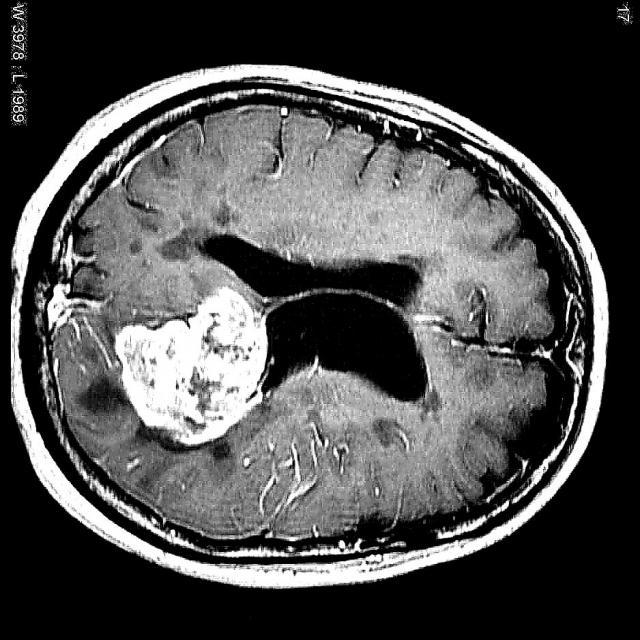tumor: (116, 282, 273, 448)
